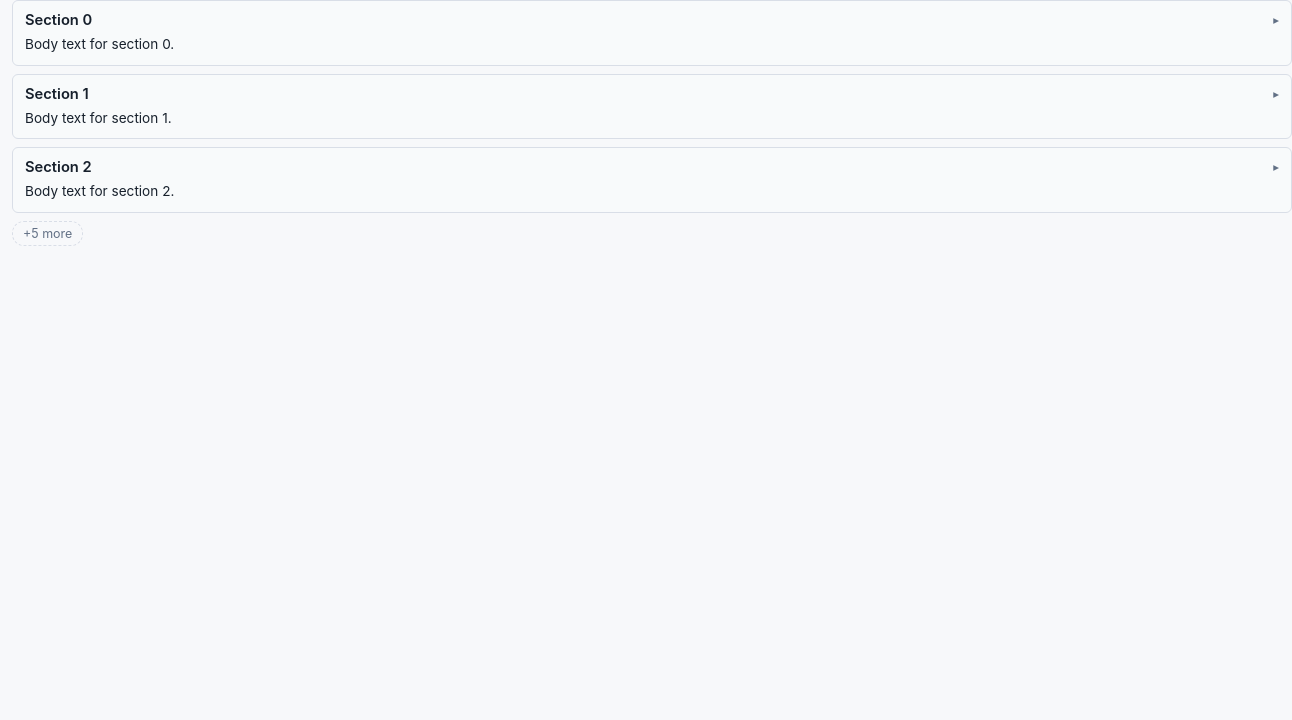
Test case: SemanticSectionList › expands every row after clicking the +N more affordance
The width and height of the screenshot is (1292, 720).
Click the button with test id "sem-sections-more". click: (48, 234)
box: [12, 221, 83, 246]
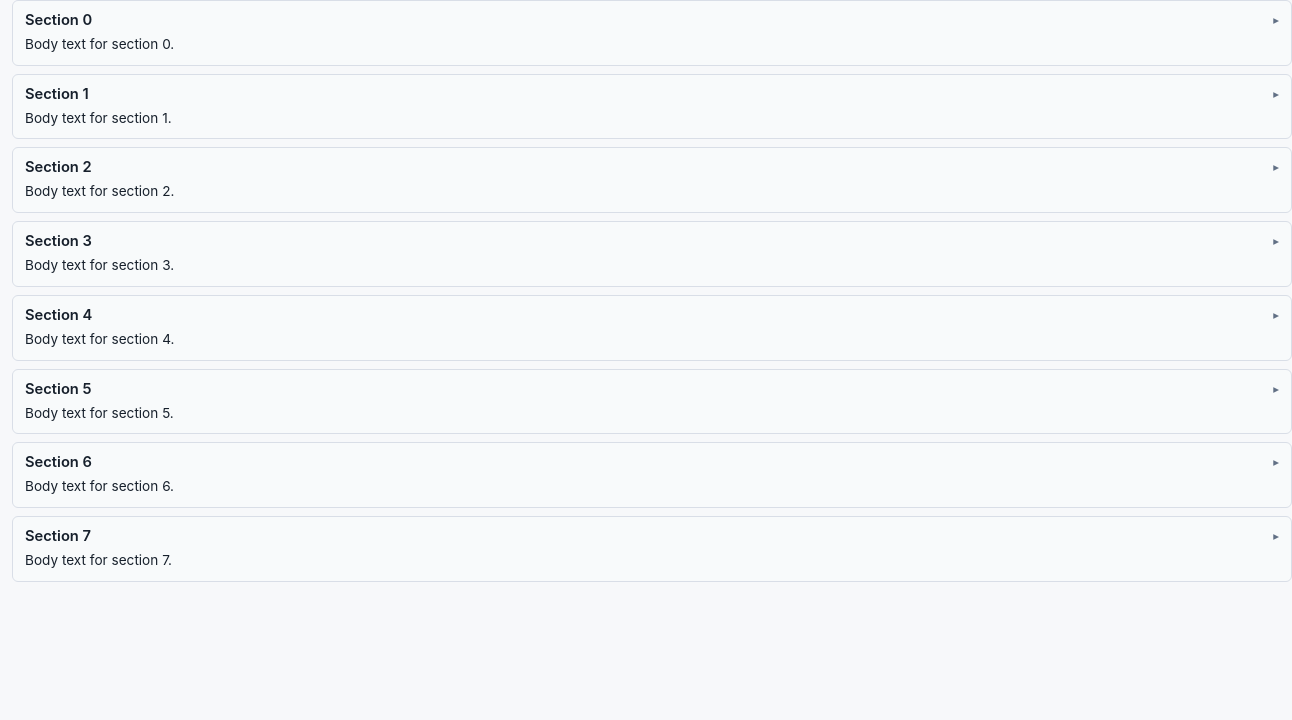
Result: the number of list items with test id "sem-section-row" is 8
Result: the button with test id "sem-sections-more" is gone
